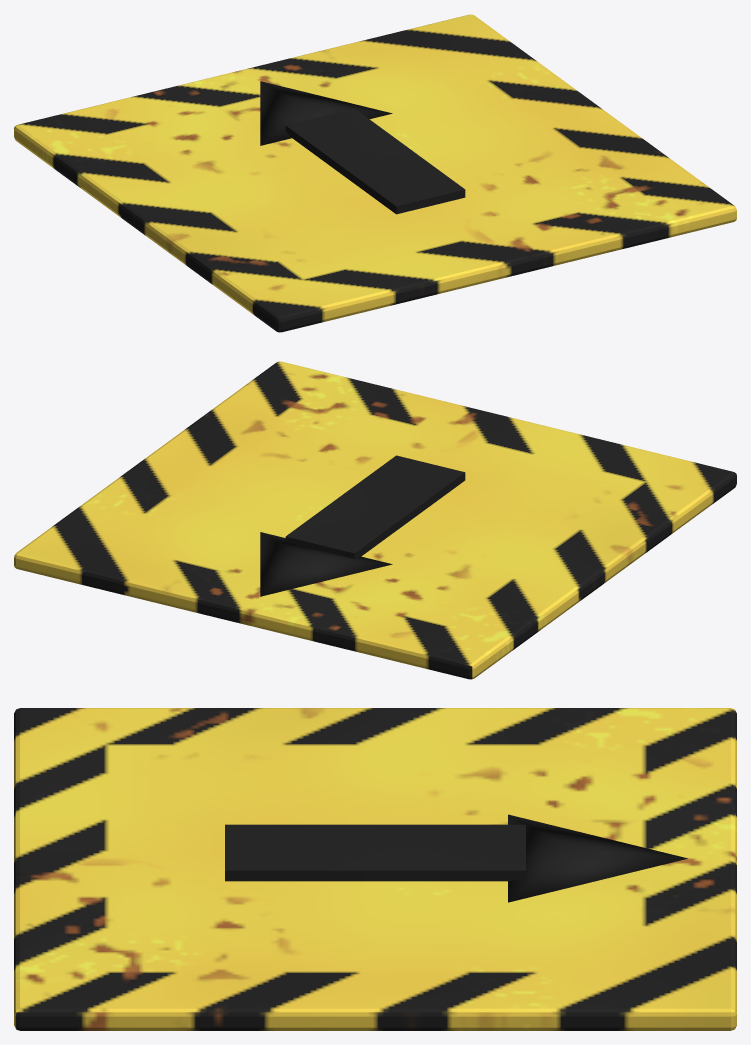
Rendered from bunker_hatch_inner.glb.
3 renders of one model, top to bottom at view 1: azimuth 30°, elevation 25°; view 2: azimuth 150°, elevation 25°; view 3: azimuth 270°, elevation 25°, orthographic. The views are drawn at different scales.
Parts seen in each view (by area): view 1: HatchInner; view 2: HatchInner; view 3: HatchInner.
Boxes of the visible parts, x1,y1,x2,y2 form: HatchInner: (14, 14, 736, 332); HatchInner: (14, 361, 736, 679); HatchInner: (14, 708, 736, 1030).
Bounding box in the file's own units: 1.2 × 0.06 × 1.2.
Materials: 1 (1 with a texture image).
